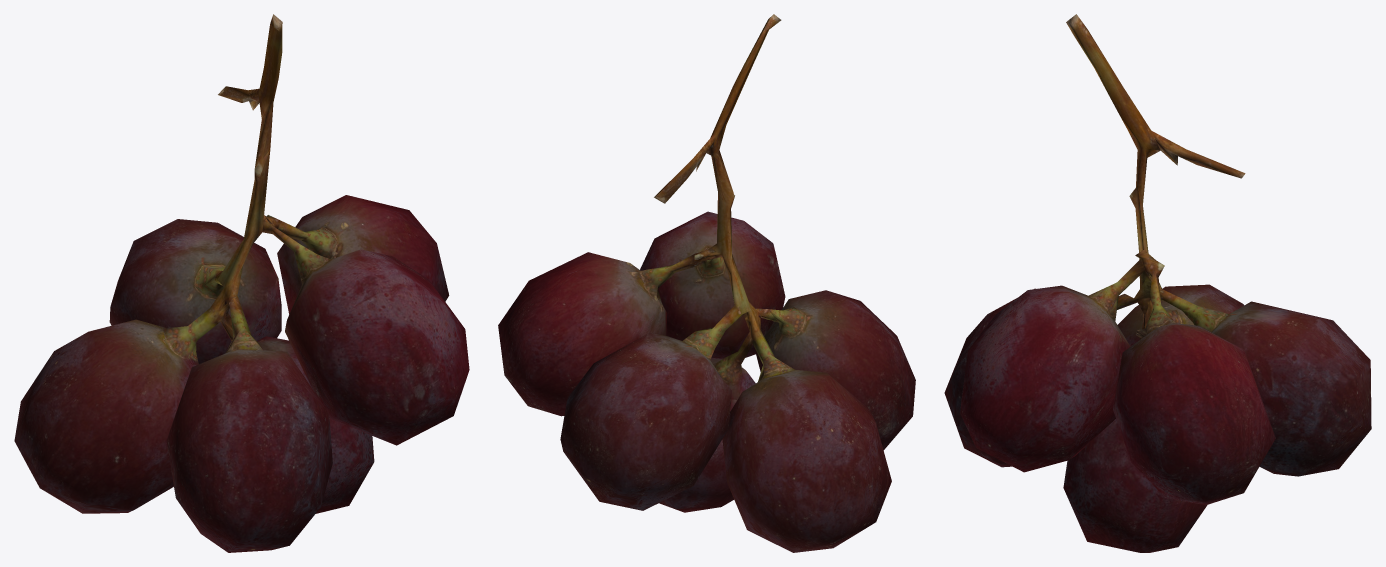
File: red_grapes_wjbgdiz_low.glb
The picture shows the model from 3 angles, left to right: view 1: azimuth 30°, elevation 25°; view 2: azimuth 150°, elevation 25°; view 3: azimuth 270°, elevation 25°; orthographic projection. The views are drawn at different scales.
Parts seen in each view (by area): view 1: wjbgdiz_LOD0_TIER3_000; view 2: wjbgdiz_LOD0_TIER3_000; view 3: wjbgdiz_LOD0_TIER3_000.
Boxes of the visible parts, x1,y1,x2,y2 form: wjbgdiz_LOD0_TIER3_000: (14,14,469,552); wjbgdiz_LOD0_TIER3_000: (498,14,915,552); wjbgdiz_LOD0_TIER3_000: (944,14,1371,552).
Size of the model in its own units: 0.0554 by 0.0707 by 0.0535.
1 material, 1 textured.
